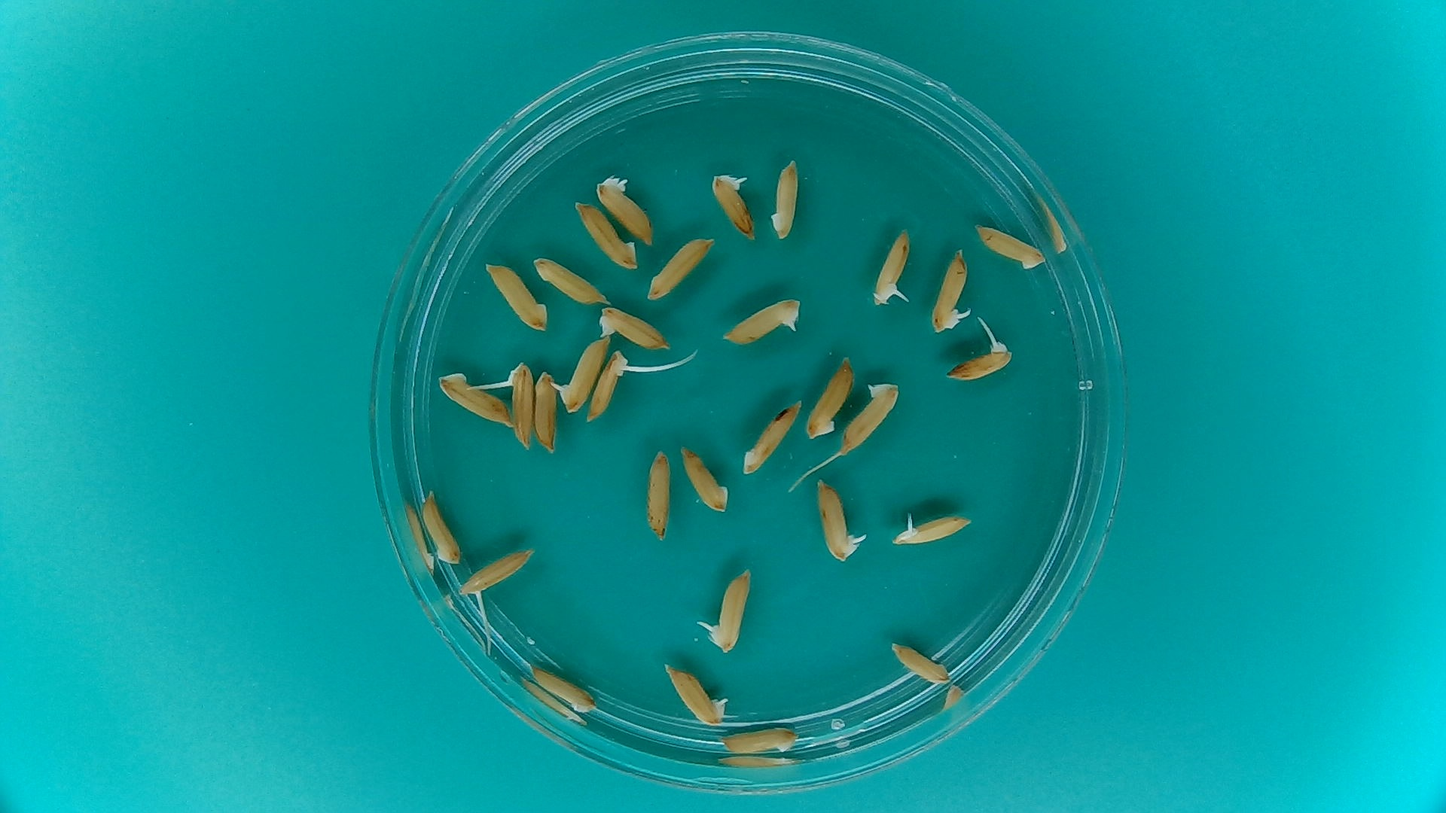no: (836, 377, 904, 458), (740, 394, 804, 480), (802, 349, 859, 443), (644, 232, 718, 304), (481, 258, 551, 334), (572, 200, 639, 273), (437, 373, 515, 430), (676, 440, 731, 519), (529, 252, 609, 306), (971, 221, 1049, 273), (593, 303, 675, 351), (528, 661, 601, 714), (418, 488, 464, 566), (886, 638, 954, 688), (768, 151, 804, 245), (642, 443, 675, 542), (716, 721, 802, 757), (532, 368, 560, 455)
yes: (660, 661, 730, 727), (593, 177, 655, 248), (927, 244, 973, 337), (812, 478, 859, 566), (710, 570, 756, 657), (725, 295, 802, 346), (868, 227, 914, 311), (888, 509, 977, 550), (456, 547, 532, 595), (711, 171, 758, 243), (943, 337, 1013, 385), (563, 337, 606, 413), (502, 357, 536, 453), (589, 349, 630, 416)
